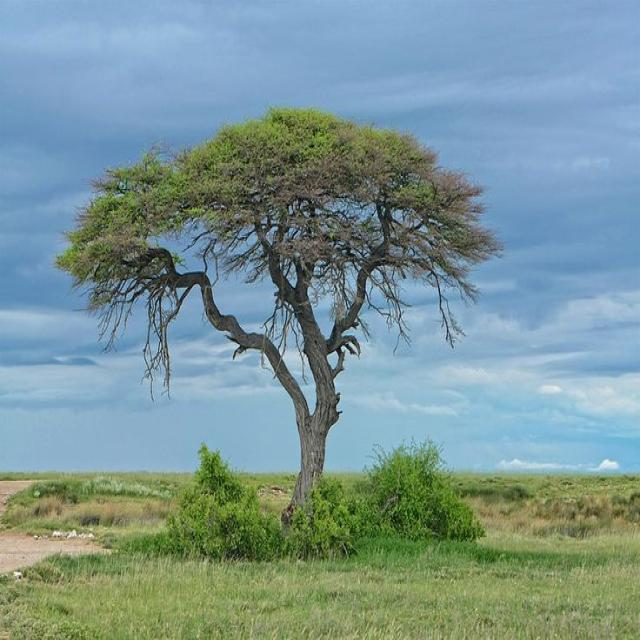Acacia: (89, 113, 478, 503)
